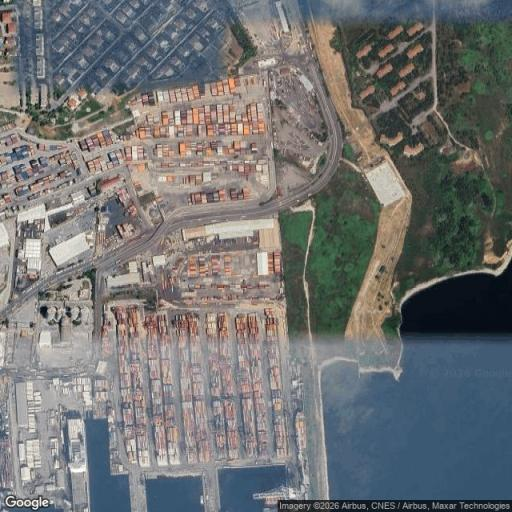ship: (68, 418, 90, 511), (201, 495, 204, 506)
